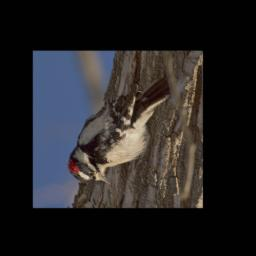Woodpecker: (67, 76, 171, 185)
